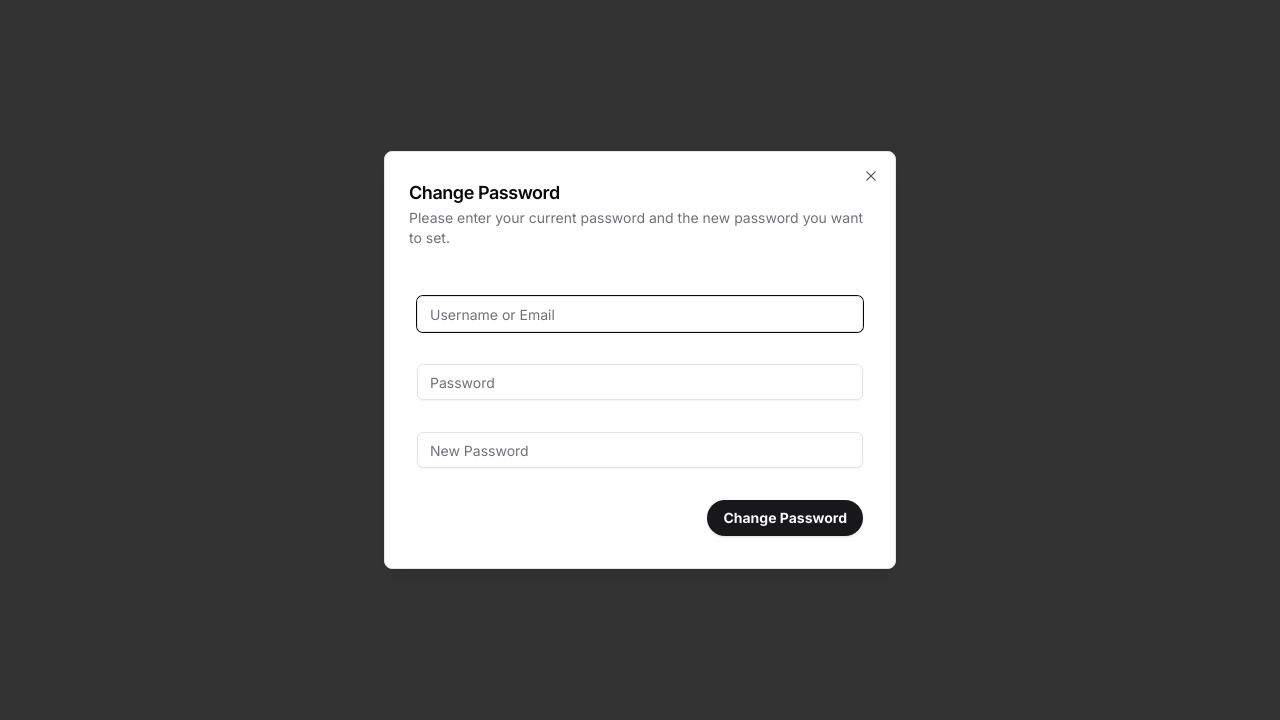
Test: ChangePasswordModal › should disable the submit button when isSubmitting is true
Type "user@example.com" into the field with placeholder "Username or Email".
click(640, 314); type("user@example.com")  # box [417,296,863,332]
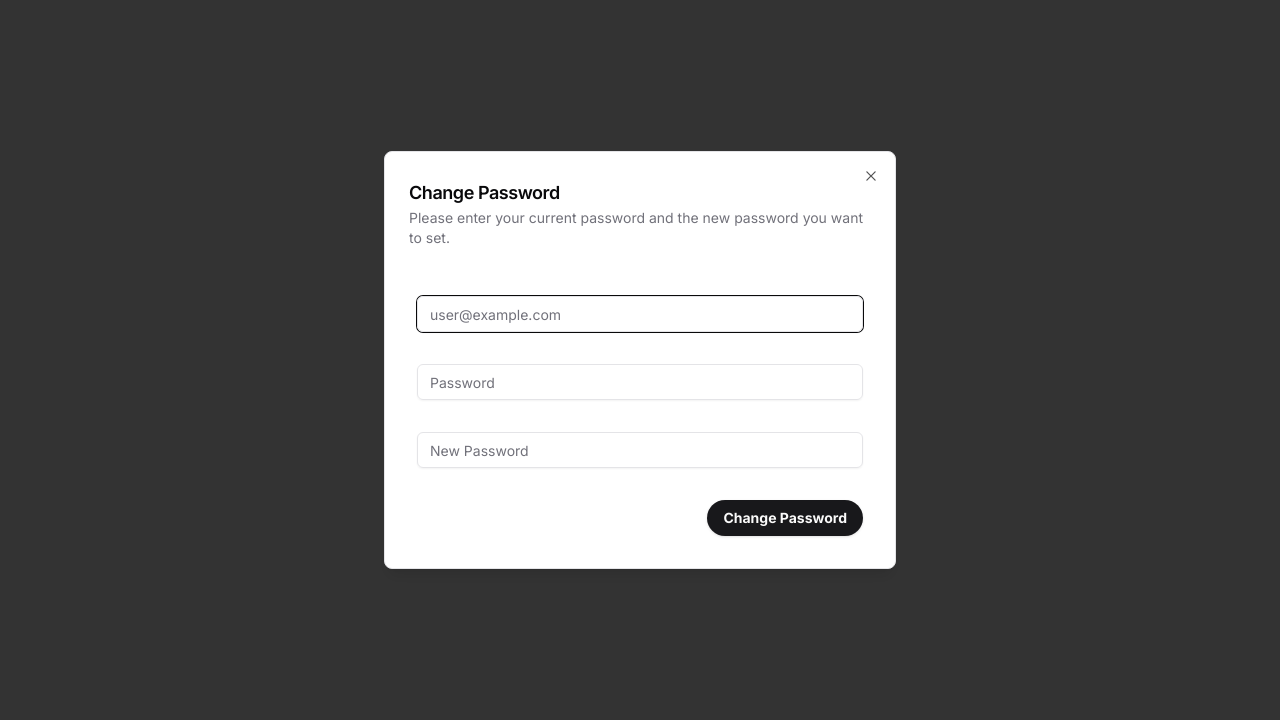
Type "oldpassword" into the password field with placeholder "Password".
click(640, 382); type("oldpassword")  # box [417,364,863,400]
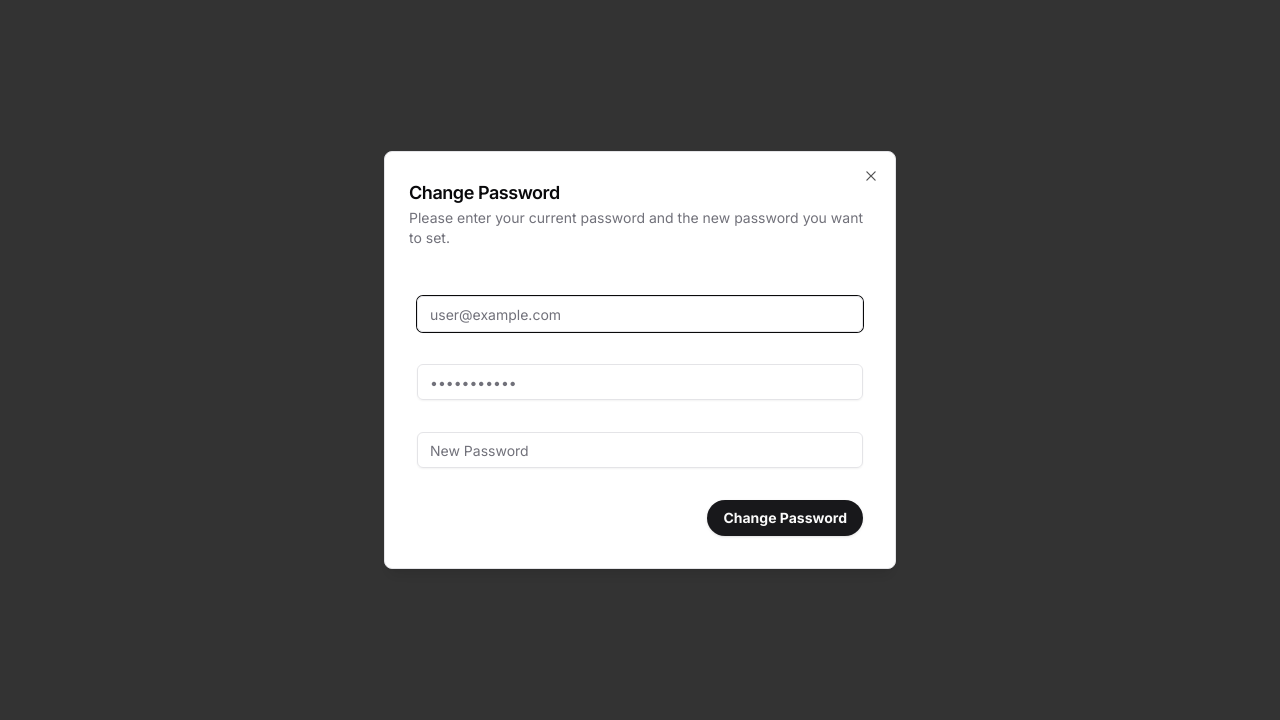
Type "newpassword" into the password field with placeholder "New Password".
click(640, 450); type("newpassword")  # box [417,432,863,468]
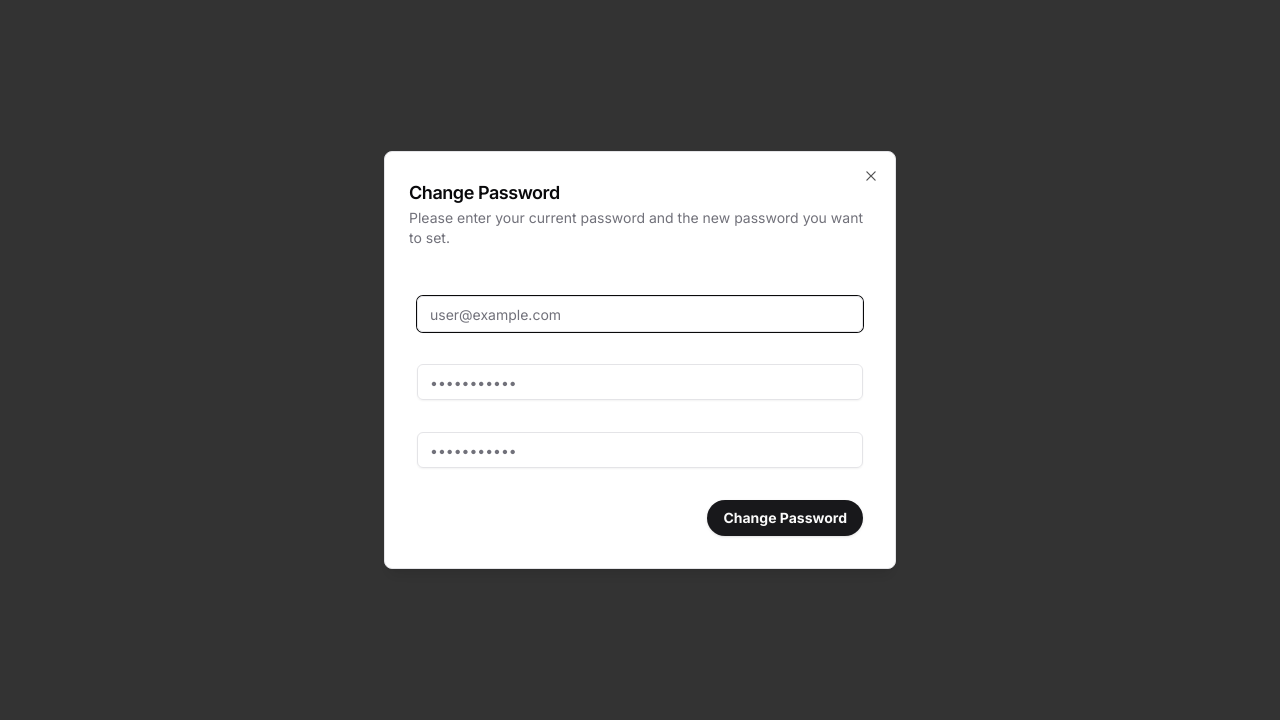
Click the button "Change Password".
click(785, 518)  # box [707,500,863,536]
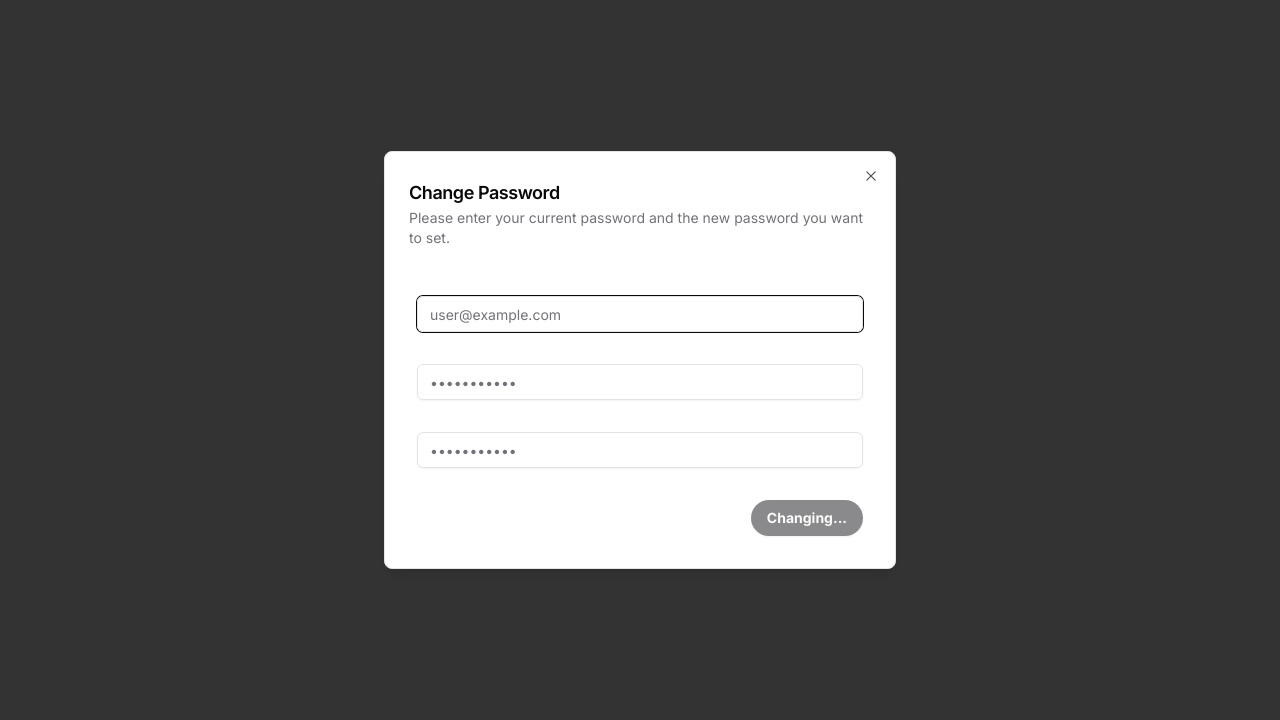
Result: the button "Changing..." is disabled at [751,500,863,536]
